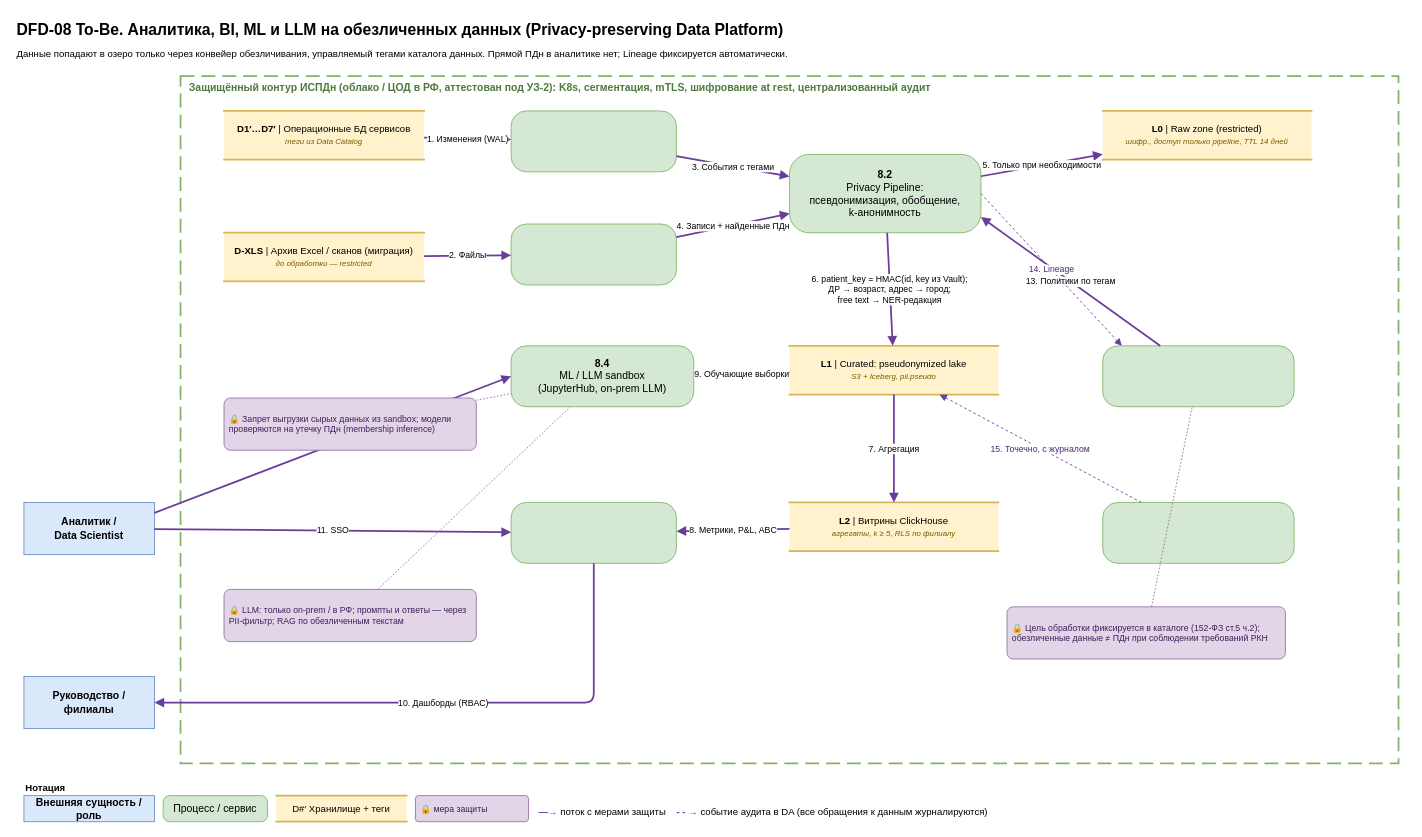
This 1422x837 diagram has some shape labels left out. The shapes that lost their labels are listed below. From the top down, each one's centre as x and y in pixels, then its label:
[593,141]: 8.1 CDC (Debezium) → Kafka
[593,254]: 8.6 Разовая загрузка Excel + PII-сканер
[1198,376]: 8.5 Data Catalog + Lineage (OpenMetadata)
[593,532]: 8.3 BI (Superset / DataLens)
[1198,532]: 8.7 Ре-идентификация (по заявке, одобряет DPO)
